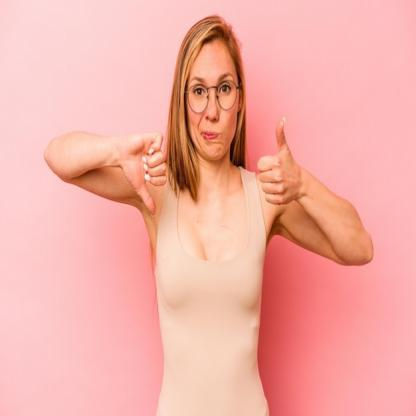thumb_down: (124, 128, 170, 218)
thumb_up: (256, 114, 302, 209)
